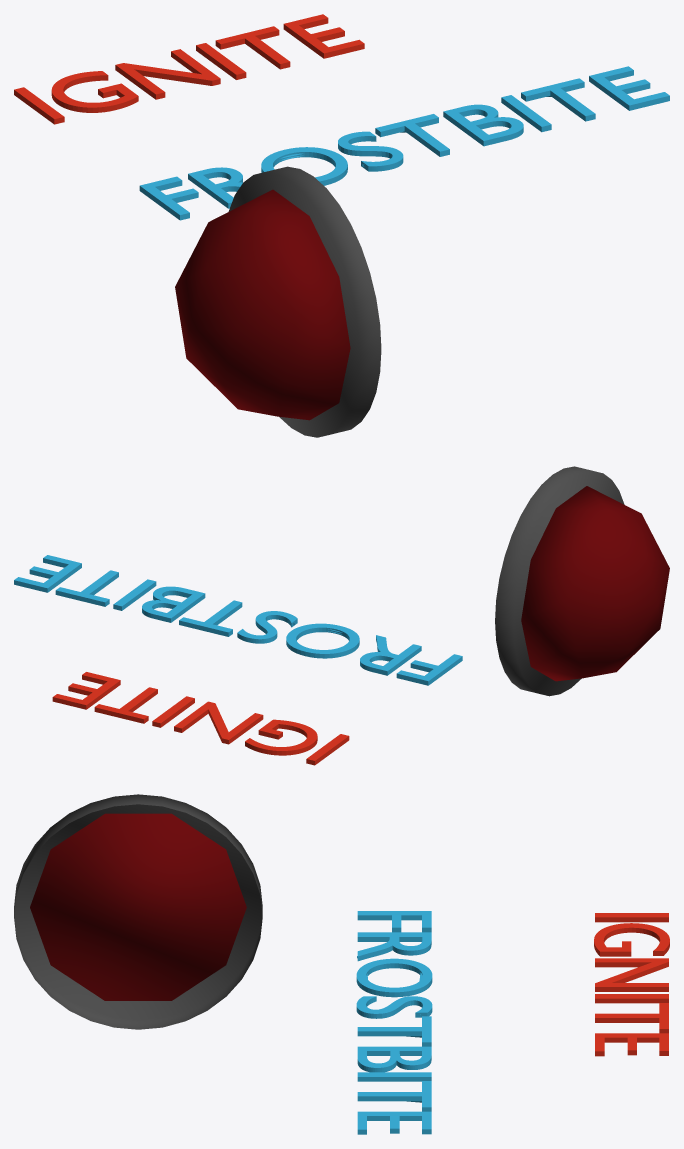
Rendered from biohex_3d_object_test.glb.
The picture shows the model from 3 angles, top to bottom: view 1: azimuth 30°, elevation 25°; view 2: azimuth 150°, elevation 25°; view 3: azimuth 270°, elevation 25°; orthographic projection. The views are drawn at different scales.
Visible parts, largest first — view 1: Outer Bomb, ReactionText Frostbite, ReactionText Ignite; view 2: Outer Bomb, ReactionText Frostbite, ReactionText Ignite; view 3: Outer Bomb, ReactionText Frostbite, ReactionText Ignite.
Part boxes in pixels (x1,y1,x2,y2): Outer Bomb: [175, 166, 381, 437]; ReactionText Frostbite: [139, 66, 669, 220]; ReactionText Ignite: [14, 14, 364, 124]; Outer Bomb: [495, 466, 669, 696]; ReactionText Frostbite: [14, 555, 462, 685]; ReactionText Ignite: [52, 672, 349, 765]; Outer Bomb: [14, 794, 262, 1029]; ReactionText Frostbite: [356, 911, 432, 1134]; ReactionText Ignite: [594, 913, 669, 1056].
Size of the model in its own units: 5.85 by 2.29 by 6.05.
